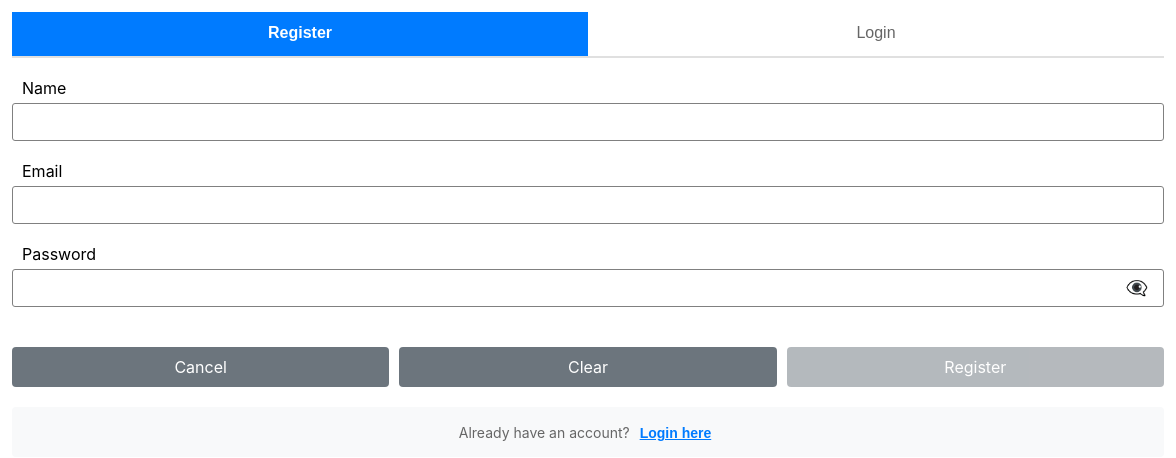
Test case: LoginRegister › clears form fields when Clear button is clicked
Type "John Doe" into the field labelled "Name".
click(588, 122); type("John Doe")  # box [12, 103, 1164, 141]
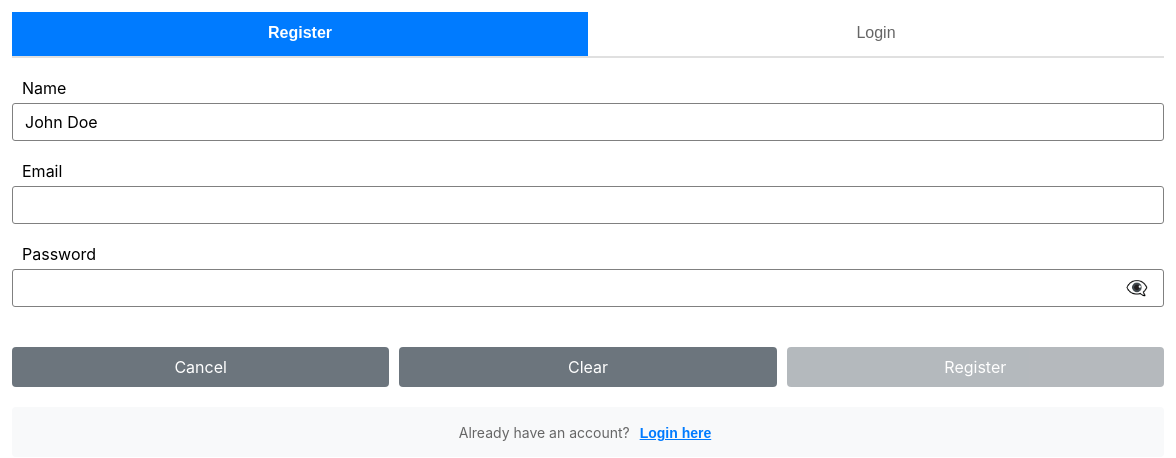
Type "test@example.com" into the field labelled "Email".
click(588, 205); type("test@example.com")  # box [12, 186, 1164, 224]
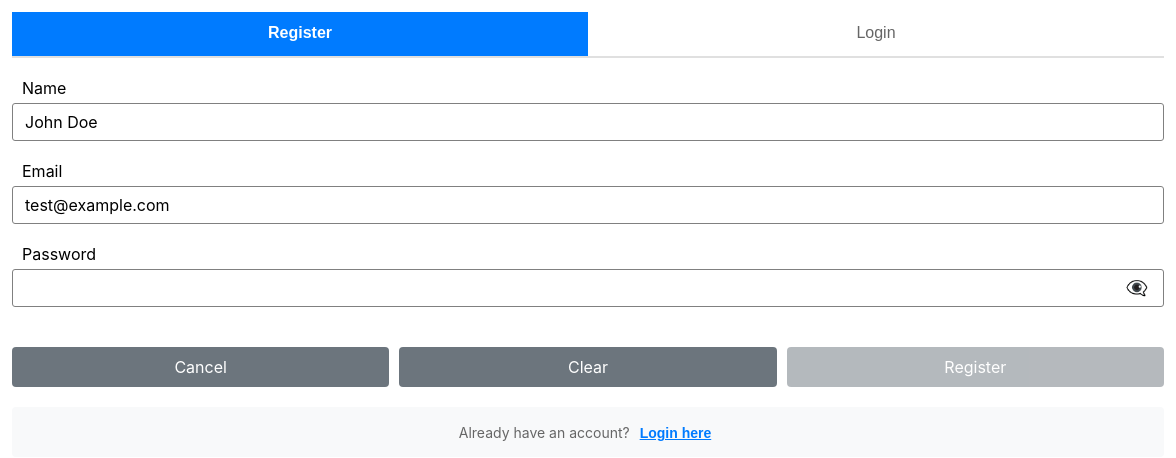
Type "Test123!" into the password field labelled "Password".
click(588, 288); type("Test123!")  # box [12, 269, 1164, 307]
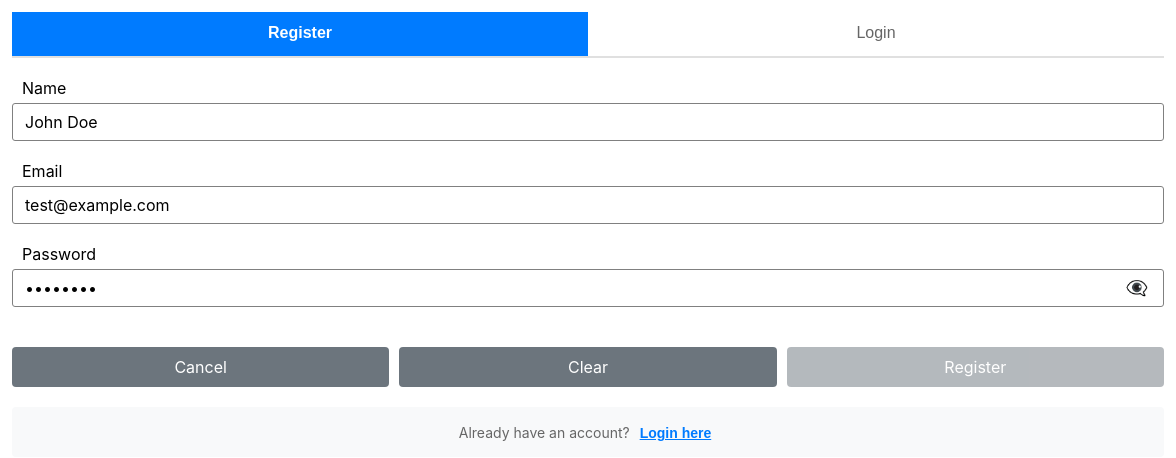
Click the button "Clear".
click(588, 367)  # box [399, 347, 777, 387]
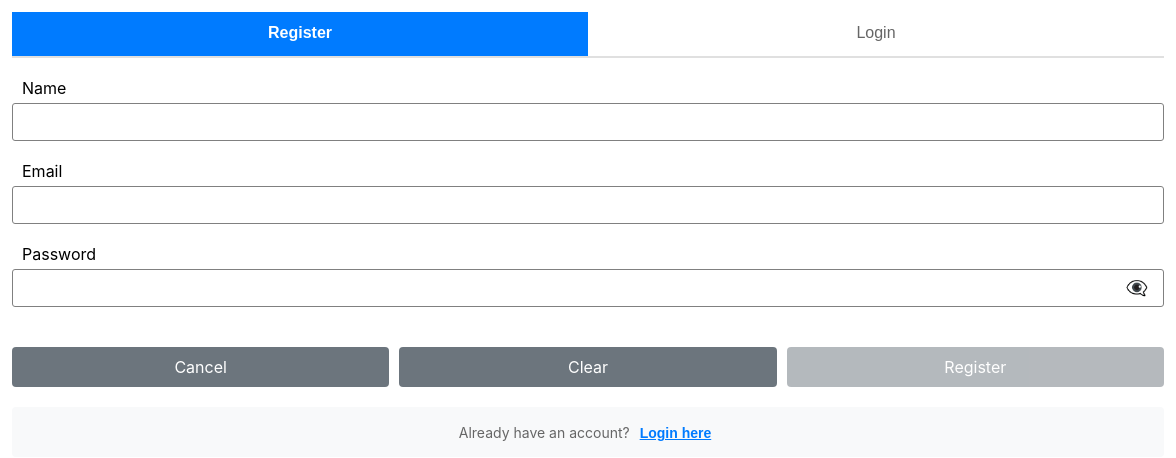
Check: the field labelled "Name" is empty, box [12, 103, 1164, 141]
Check: the field labelled "Email" is empty, box [12, 186, 1164, 224]
Check: the password field labelled "Password" is empty, box [12, 269, 1164, 307]
